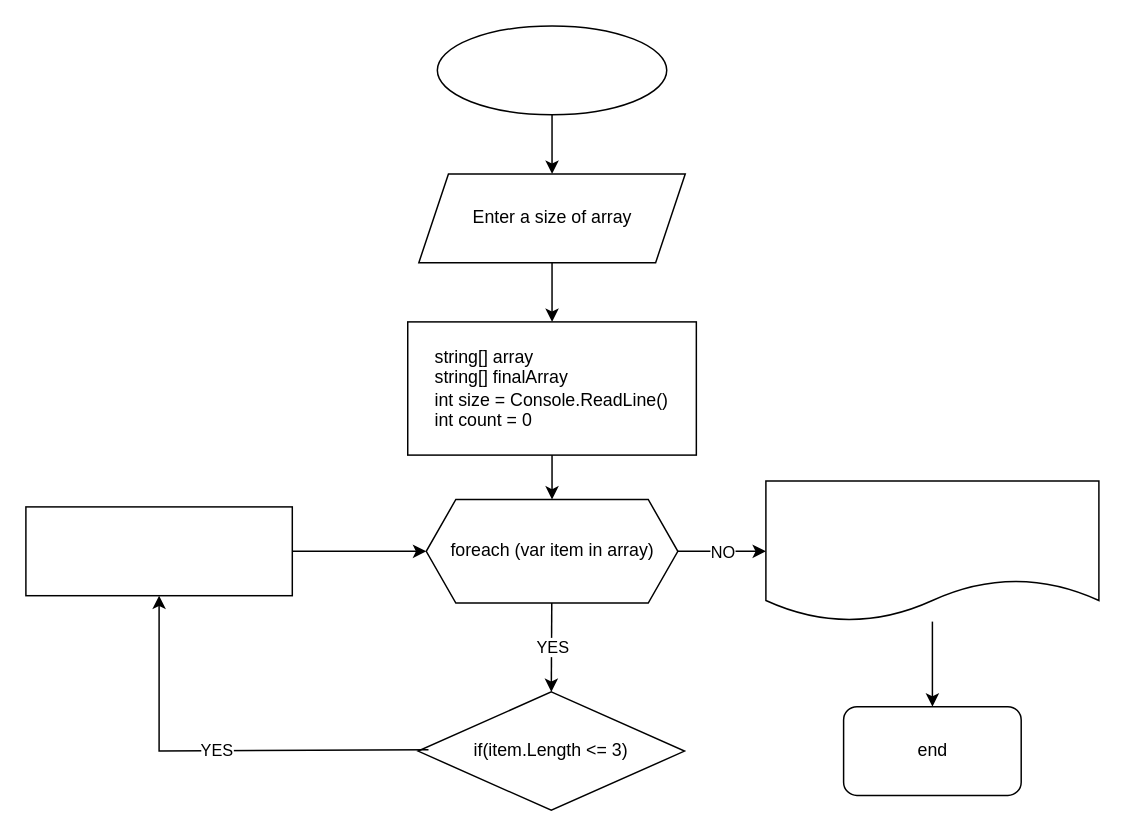
Some shapes in this 1125 by 836 pixel diagram are drawn without their labels. Here are the shapes that lost their labels. From the top down, the centre of each, then its label:
At (x=551, y=69): "start".
At (x=158, y=550): "finalArray [count] = item; count++;".
At (x=931, y=551): "Array.Resize(ref finalArray, count);".
